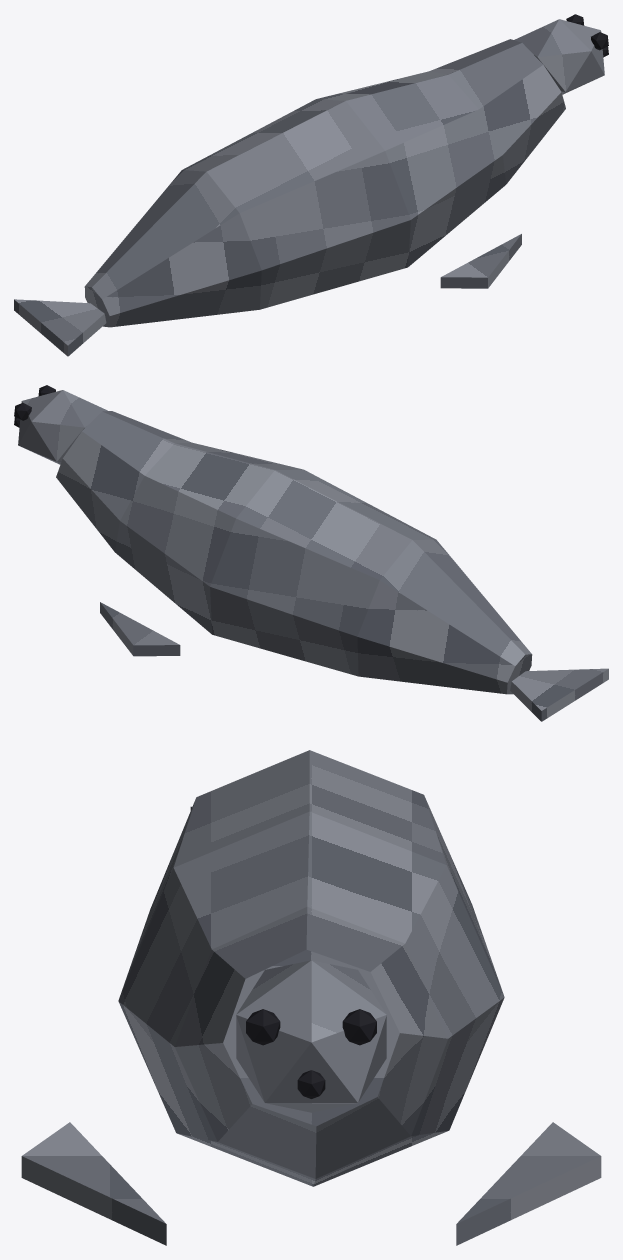
The model's file is seal.glb.
The picture shows the model from 3 angles, top to bottom: view 1: azimuth 30°, elevation 25°; view 2: azimuth 150°, elevation 25°; view 3: azimuth 270°, elevation 25°; orthographic projection. The views are drawn at different scales.
Parts seen in each view (by area): view 1: seal; view 2: seal; view 3: seal.
Boxes of the visible parts, x1,y1,x2,y2 form: seal: (14,14,608,356); seal: (14,385,608,721); seal: (21,750,601,1245).
Size of the model in its own units: 1.62 by 0.5701 by 0.72.
2 materials, 1 textured.
